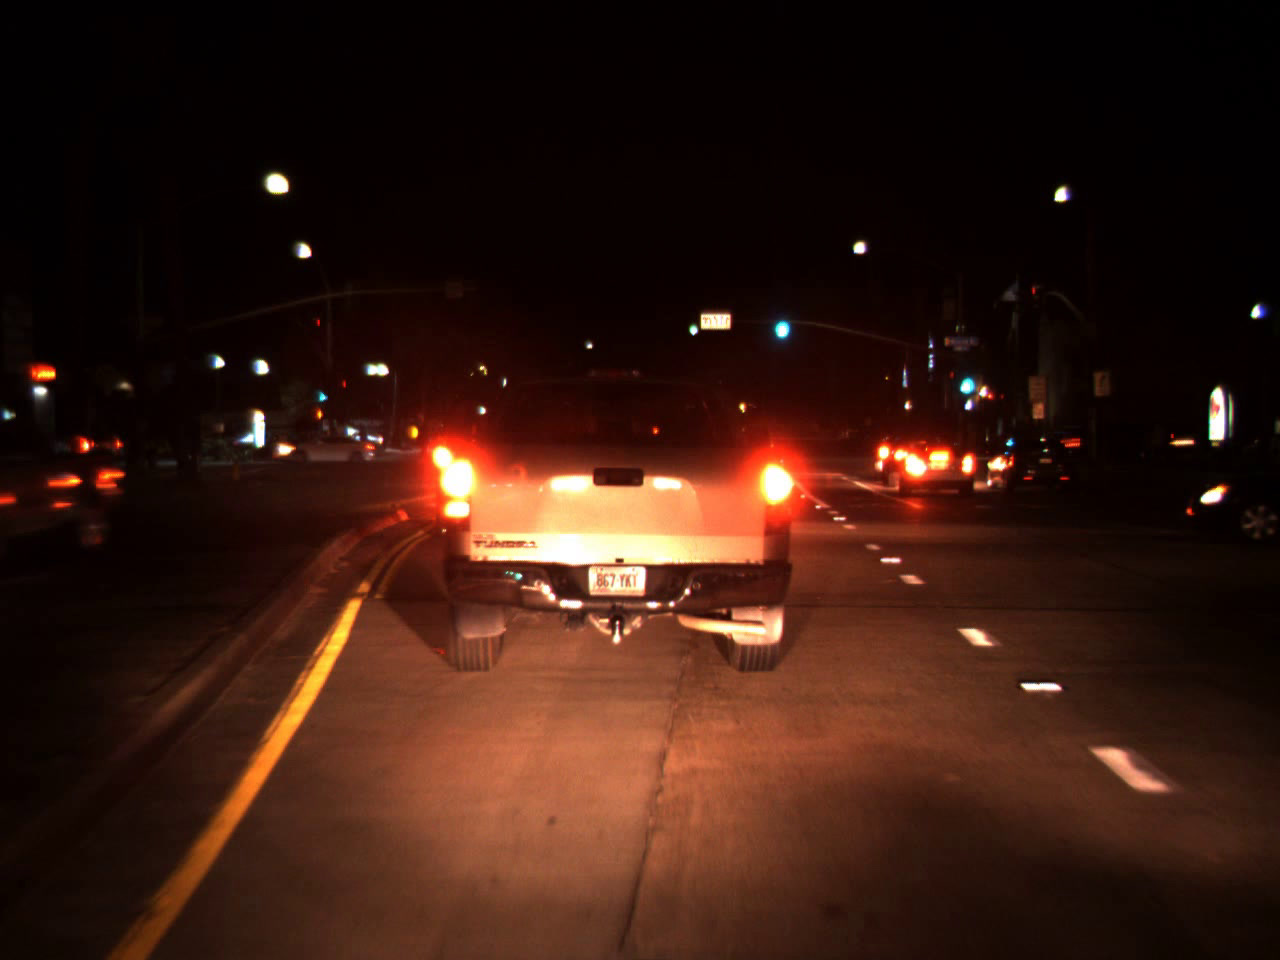go: (769, 302, 792, 341), (955, 358, 976, 400), (686, 315, 698, 339), (317, 385, 327, 403)
